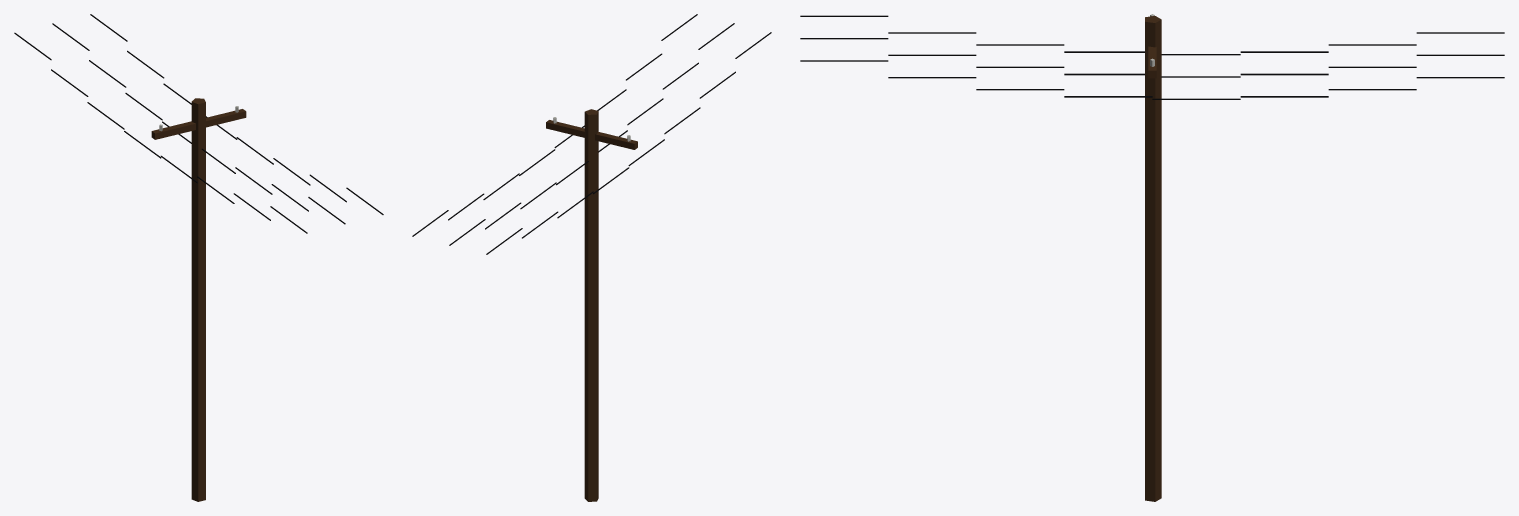
Rendered from bg_field_pole_1_lod1.glb.
3 views of the same model, side by side, from view 1: azimuth 30°, elevation 25°; view 2: azimuth 150°, elevation 25°; view 3: azimuth 270°, elevation 25° (orthographic). The views are drawn at different scales.
Visible parts, largest first — view 1: body; view 2: body; view 3: body.
Part boxes in pixels (x1,y1,x2,y2): body: (14, 14, 383, 501); body: (412, 14, 771, 501); body: (800, 14, 1504, 501).
Size of the model in its own units: 1.8 by 7.5 by 10.
